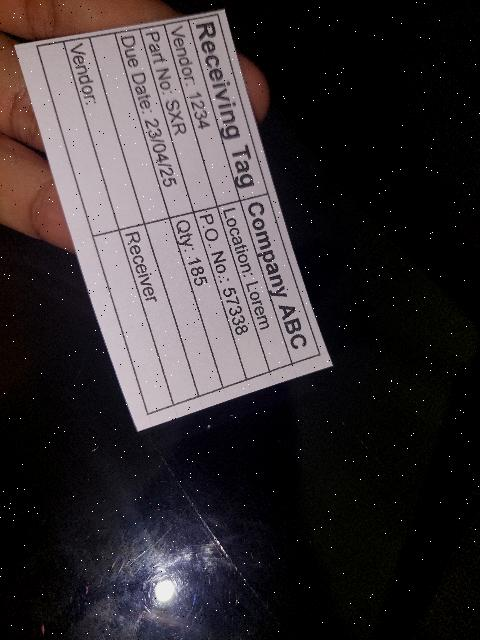PO no: (193, 207, 270, 380)
part no: (140, 25, 217, 211)
qty: (170, 212, 247, 389)
tags: (17, 10, 332, 430)
